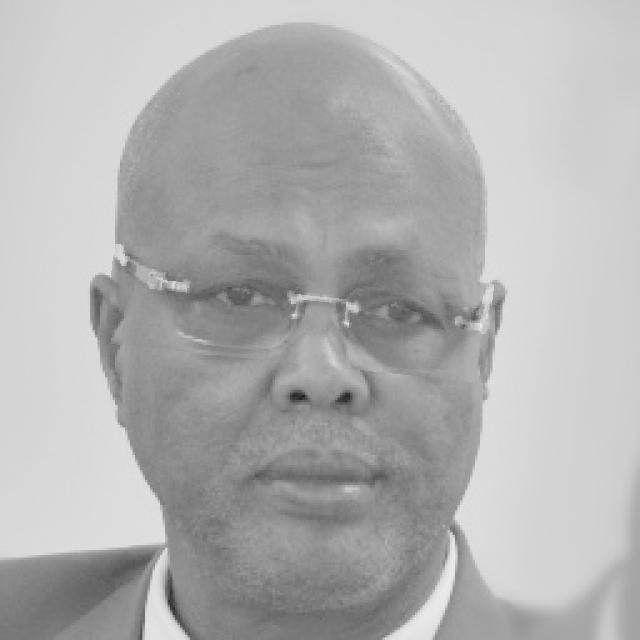glasses: (106, 254, 492, 374)
